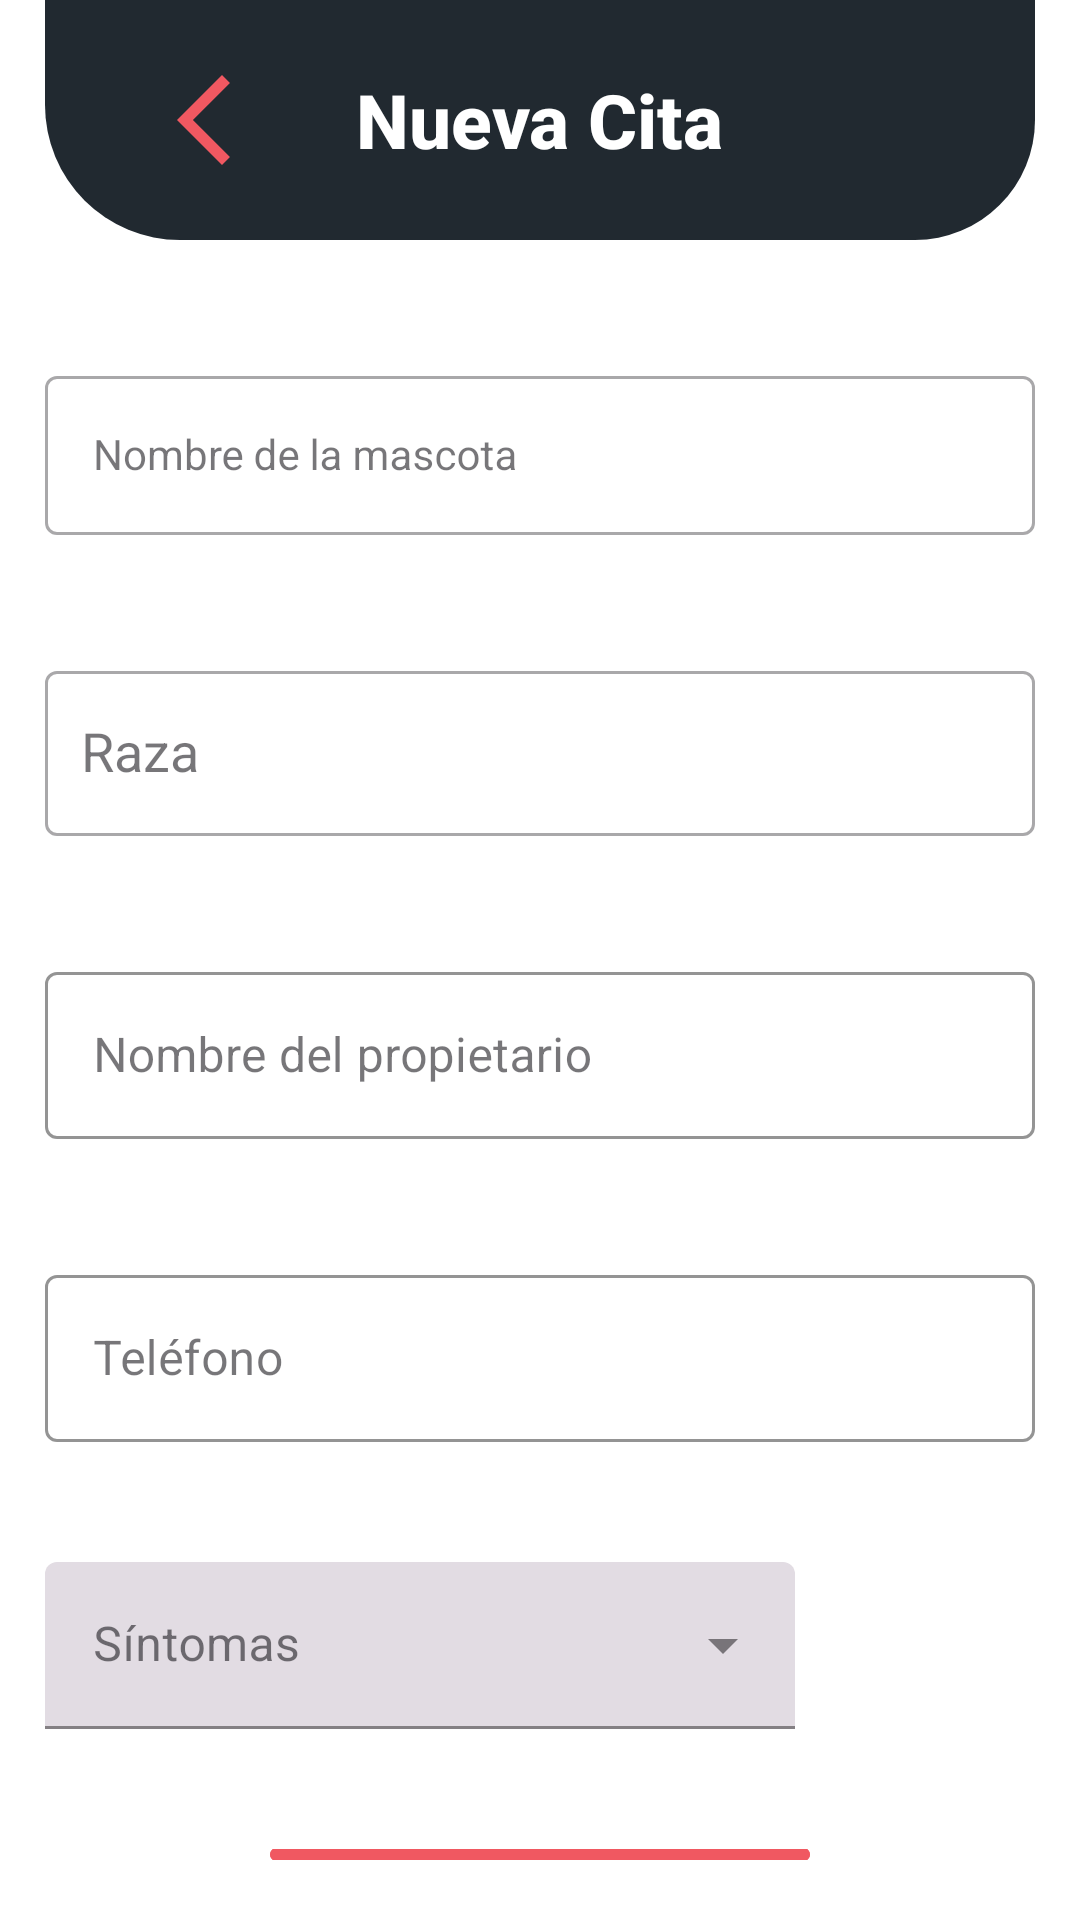

Named icons in this screenshot (1080w x 1920h) and their bounding boxes, (x1, y1, x2, y2):
Volver: (177, 75, 230, 165)
